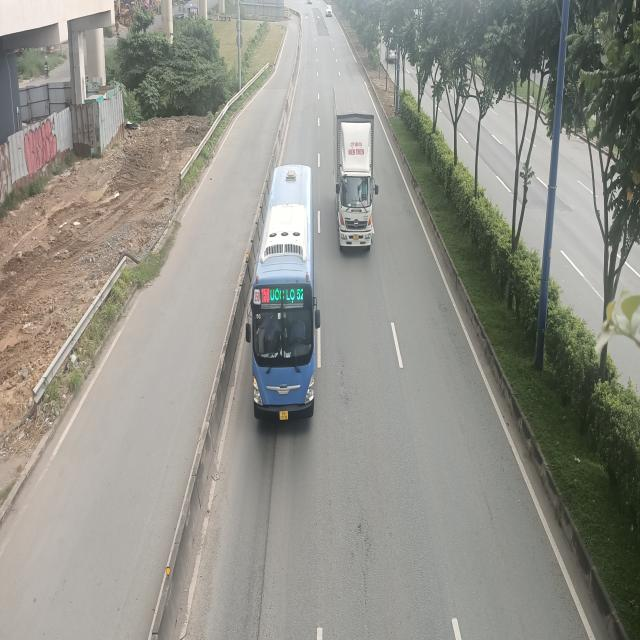coach: (244, 162, 322, 424)
truck: (334, 81, 378, 254)
